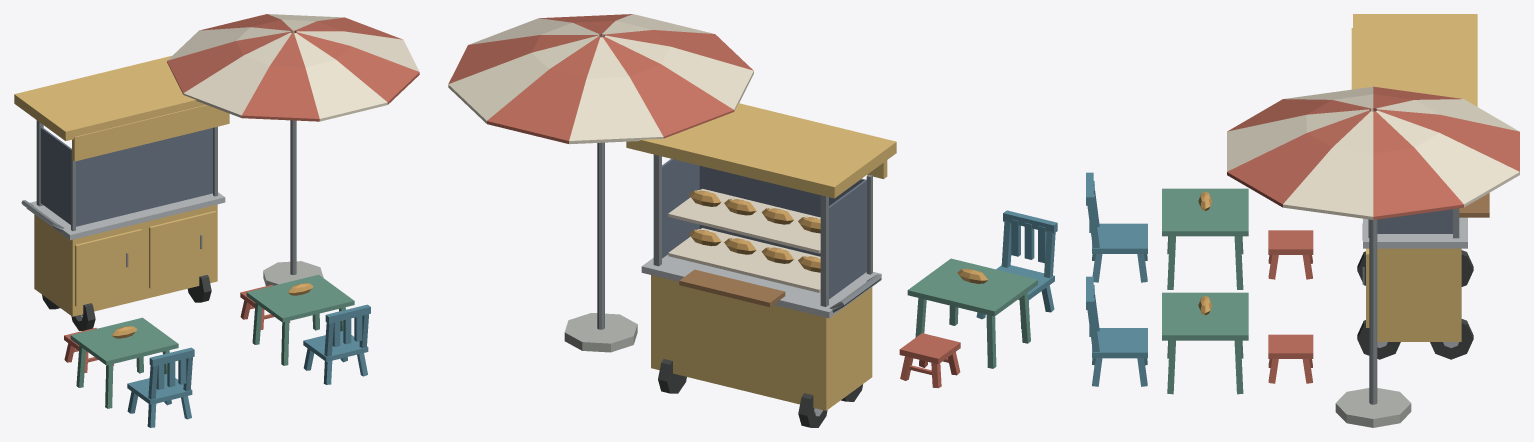
File: BanhMiSpace.glb
3 views of the same model, side by side, from view 1: azimuth 30°, elevation 25°; view 2: azimuth 150°, elevation 25°; view 3: azimuth 270°, elevation 25° (orthographic). The views are drawn at different scales.
Parts seen in each view (by area): view 1: ST_BanhMiCart_ST_yellow.001, ST_BanhMiCart_PBK_Indochine_glass.001, ST_StreetUmbrella_ST_red.001, ST_StreetUmbrella_ST_cream.001, ST_PlasticTableLow_ST_plastic_green.001, ST_PlasticTableLow_ST_plastic_green.002, ST_PlasticChairLow_ST_plastic_blue.001, ST_PlasticChairLow_ST_plastic_blue.002, ST_BanhMiCart_ST_steel.001, ST_BanhMiCart_PBK_Indochine_metal.001, ST_StreetUmbrella_PBK_Indochine_metal.001, ST_BanhMiCart_ST_black.001 (+4 smaller); view 2: ST_BanhMiCart_ST_yellow.001, ST_StreetUmbrella_ST_cream.001, ST_StreetUmbrella_ST_red.001, ST_BanhMiCart_PBK_Indochine_glass.001, ST_BanhMiCart_ST_cream.001, ST_PlasticTableLow_ST_plastic_green.001, ST_PlasticChairLow_ST_plastic_blue.001, ST_BanhMiCart_ST_steel.001, ST_BanhMiCart_PBK_Indochine_metal.001, ST_BanhMiCart_ST_bread.001, ST_Umbrella_Base.001, ST_PlasticStoolLow_ST_plastic_red.001 (+3 smaller); view 3: ST_BanhMiCart_ST_yellow.001, ST_StreetUmbrella_ST_cream.001, ST_StreetUmbrella_ST_red.001, ST_PlasticTableLow_ST_plastic_green.002, ST_PlasticTableLow_ST_plastic_green.001, ST_PlasticChairLow_ST_plastic_blue.001, ST_PlasticChairLow_ST_plastic_blue.002, ST_Umbrella_Base.001, ST_BanhMiCart_ST_black.001, ST_BanhMiCart_ST_steel.001, ST_StreetUmbrella_PBK_Indochine_metal.001, ST_PlasticStoolLow_ST_plastic_red.002 (+4 smaller).
Boxes of the visible parts, box(x1,y1,x2,y2) form: ST_BanhMiCart_ST_yellow.001: box(14, 56, 229, 316); ST_BanhMiCart_PBK_Indochine_glass.001: box(40, 127, 212, 226); ST_StreetUmbrella_ST_red.001: box(167, 14, 419, 121); ST_StreetUmbrella_ST_cream.001: box(167, 14, 419, 121); ST_PlasticTableLow_ST_plastic_green.001: box(70, 317, 178, 408); ST_PlasticTableLow_ST_plastic_green.002: box(246, 274, 354, 365); ST_PlasticChairLow_ST_plastic_blue.001: box(127, 347, 194, 427); ST_PlasticChairLow_ST_plastic_blue.002: box(303, 304, 370, 384); ST_BanhMiCart_ST_steel.001: box(26, 192, 225, 321); ST_BanhMiCart_PBK_Indochine_metal.001: box(21, 120, 217, 267); ST_StreetUmbrella_PBK_Indochine_metal.001: box(290, 33, 296, 274); ST_BanhMiCart_ST_black.001: box(42, 275, 211, 330); ST_BanhMiCart_ST_yellow.001: box(626, 103, 896, 410); ST_StreetUmbrella_ST_cream.001: box(448, 14, 753, 144); ST_StreetUmbrella_ST_red.001: box(448, 14, 753, 143); ST_BanhMiCart_PBK_Indochine_glass.001: box(662, 158, 866, 298); ST_BanhMiCart_ST_cream.001: box(668, 188, 820, 292); ST_PlasticTableLow_ST_plastic_green.001: box(907, 258, 1037, 368); ST_PlasticChairLow_ST_plastic_blue.001: box(976, 210, 1057, 328); ST_BanhMiCart_ST_steel.001: box(641, 254, 881, 416); ST_BanhMiCart_PBK_Indochine_metal.001: box(653, 154, 881, 312); ST_BanhMiCart_ST_bread.001: box(689, 190, 820, 272); ST_Umbrella_Base.001: box(564, 313, 637, 352); ST_PlasticStoolLow_ST_plastic_red.001: box(899, 333, 960, 388); ST_BanhMiCart_ST_yellow.001: box(1351, 14, 1477, 341); ST_StreetUmbrella_ST_cream.001: box(1227, 86, 1519, 219); ST_StreetUmbrella_ST_red.001: box(1227, 86, 1519, 219); ST_PlasticTableLow_ST_plastic_green.002: box(1162, 292, 1248, 394); ST_PlasticTableLow_ST_plastic_green.001: box(1162, 188, 1248, 289); ST_PlasticChairLow_ST_plastic_blue.001: box(1086, 172, 1147, 282); ST_PlasticChairLow_ST_plastic_blue.002: box(1086, 276, 1147, 386); ST_Umbrella_Base.001: box(1335, 388, 1411, 427); ST_BanhMiCart_ST_black.001: box(1357, 250, 1473, 359); ST_BanhMiCart_ST_steel.001: box(1363, 217, 1467, 347); ST_StreetUmbrella_PBK_Indochine_metal.001: box(1369, 111, 1377, 404); ST_PlasticStoolLow_ST_plastic_red.002: box(1268, 334, 1313, 383).
Bounding box in the file's own units: 3.84 × 2.38 × 3.1.
